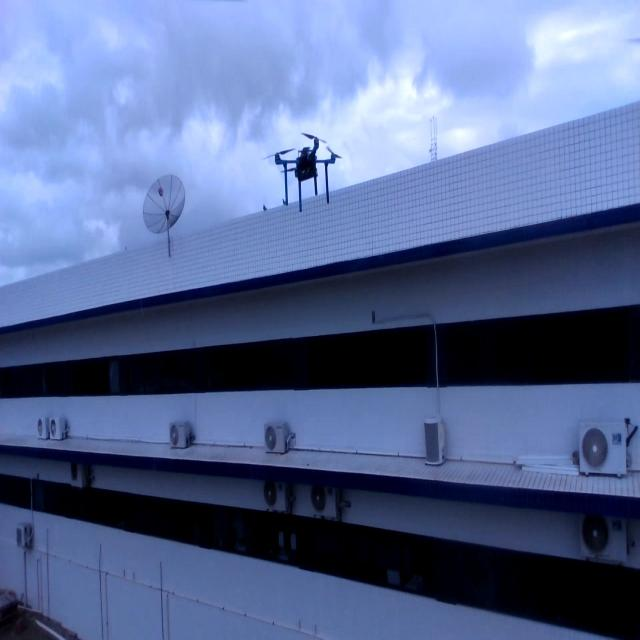-uav-: (265, 114, 343, 231)
